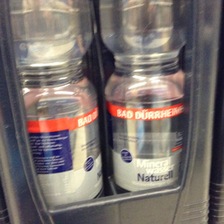water: (7, 1, 104, 205), (98, 1, 185, 192)
